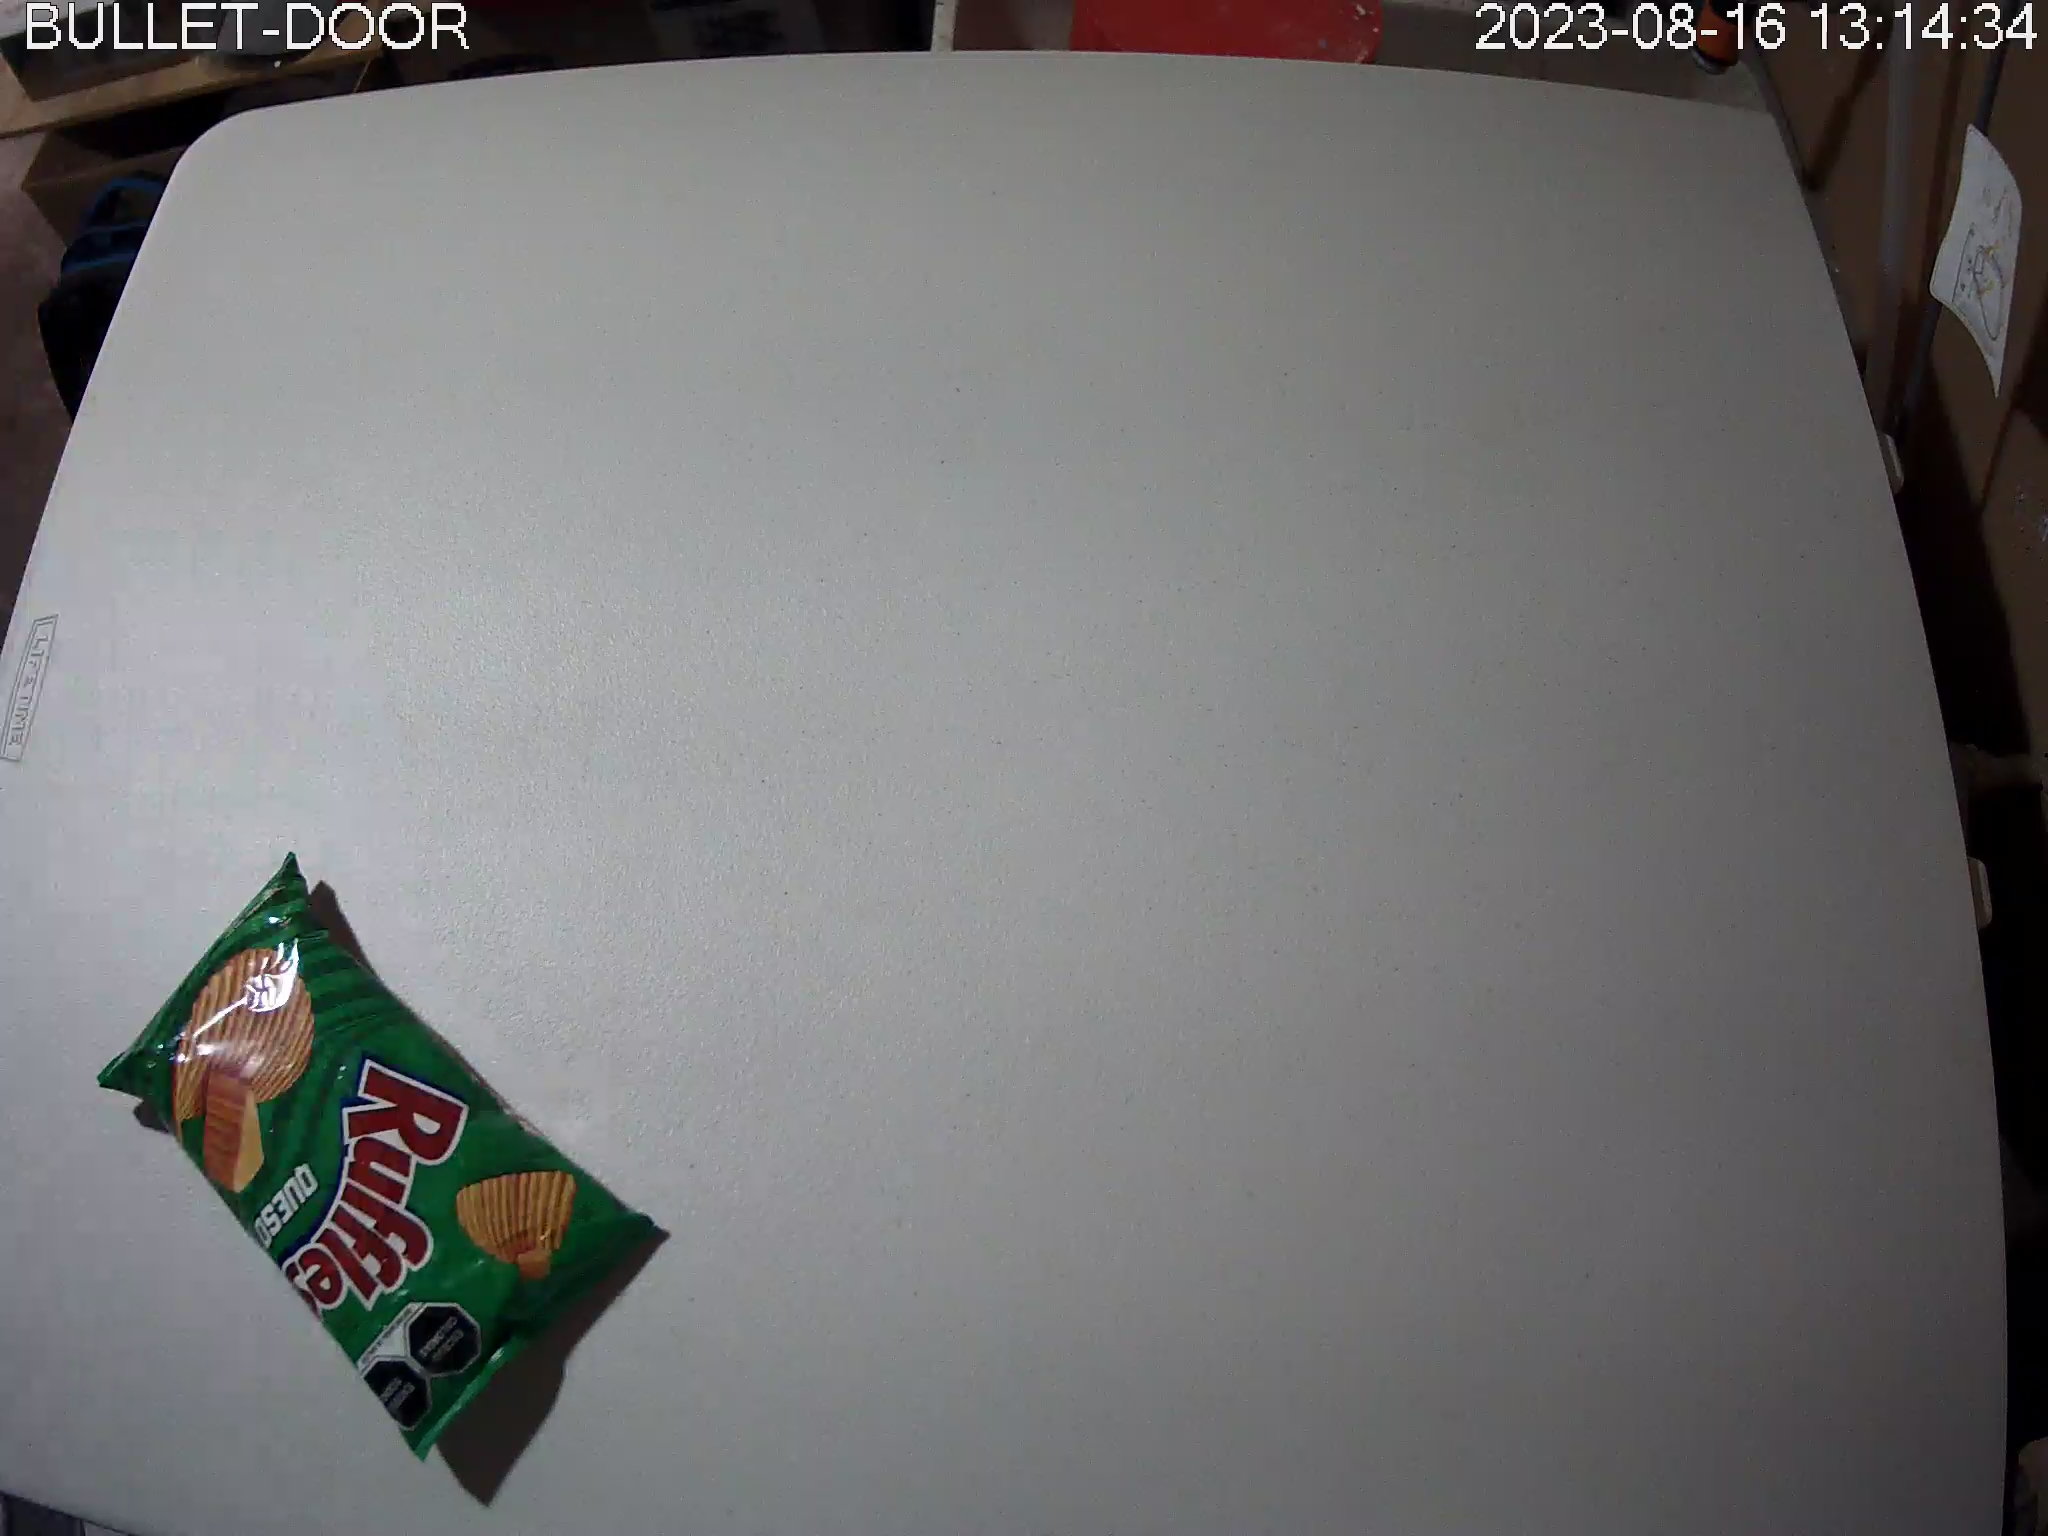RufflesQ_48_F: (97, 849, 656, 1459)
